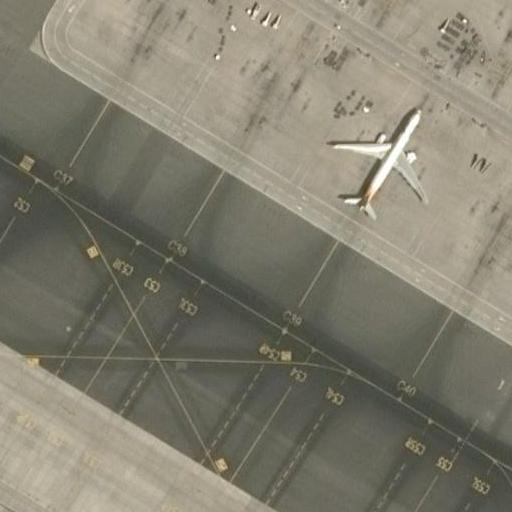Aircraft: (330, 97, 430, 216)
